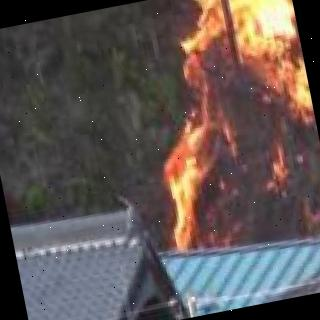fire: (129, 0, 320, 270)
